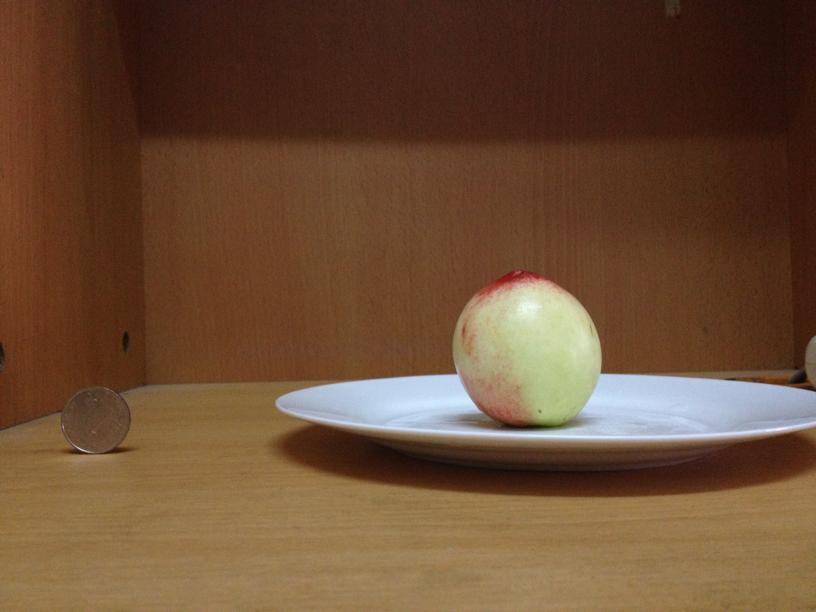coin: (61, 386, 130, 455)
peach: (453, 267, 602, 428)
